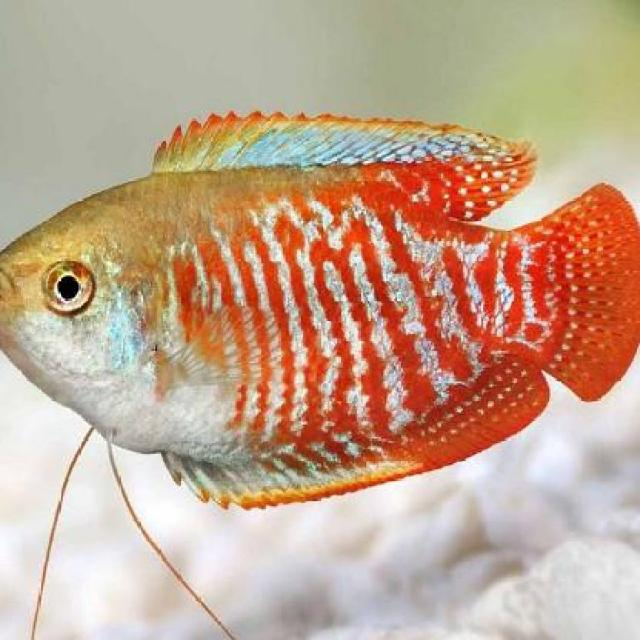Gourami: (1, 112, 638, 520)
